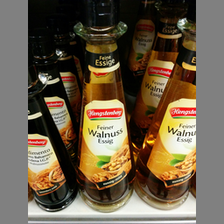vinegar: (71, 13, 136, 214), (139, 23, 197, 207), (28, 60, 71, 212)
